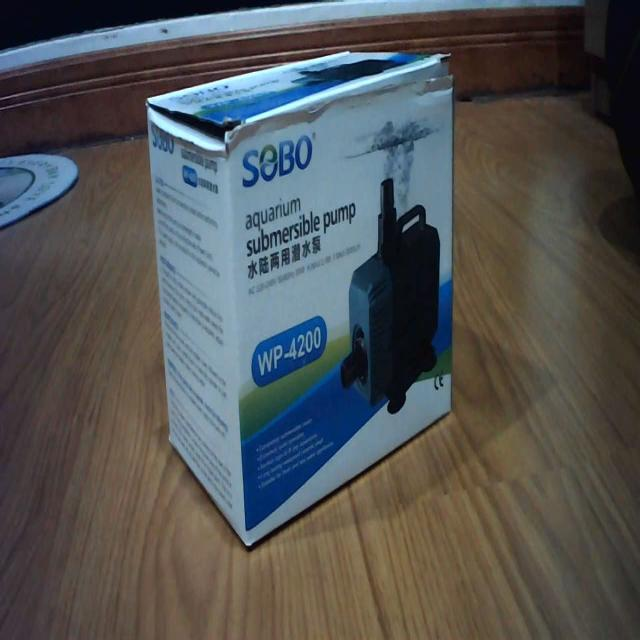SOBO_WP_4200: (144, 38, 461, 550)
